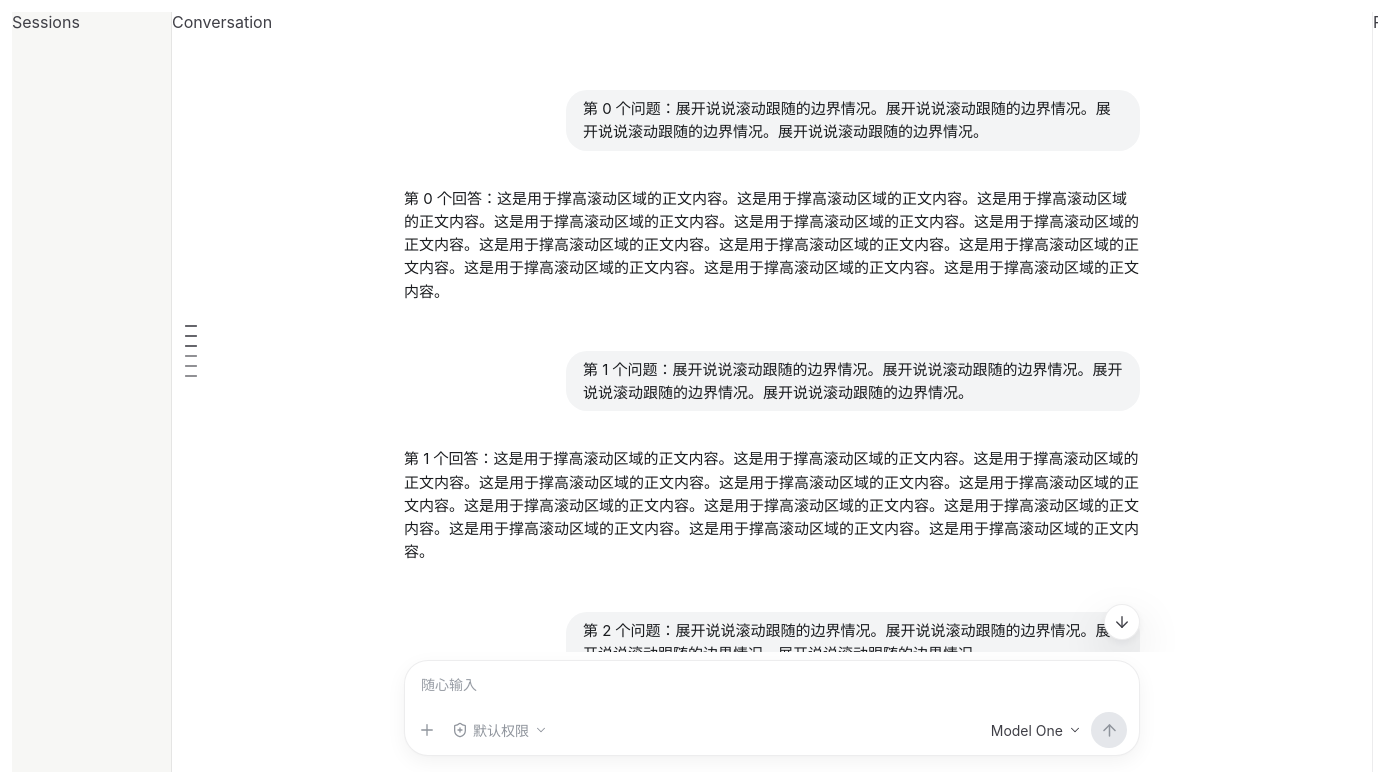
it: conversation scroll-to-bottom control › stays hidden at the bottom, appears above the composer after scrolling up, and returns on click
Expected: the 1st icon is shown, [1113,613,1131,631]
// Clicking returns to the newest content and hides the control again.
Click the button with class "conversation-scroll-to-bottom" at (1122, 622), box [1104,604,1140,640]
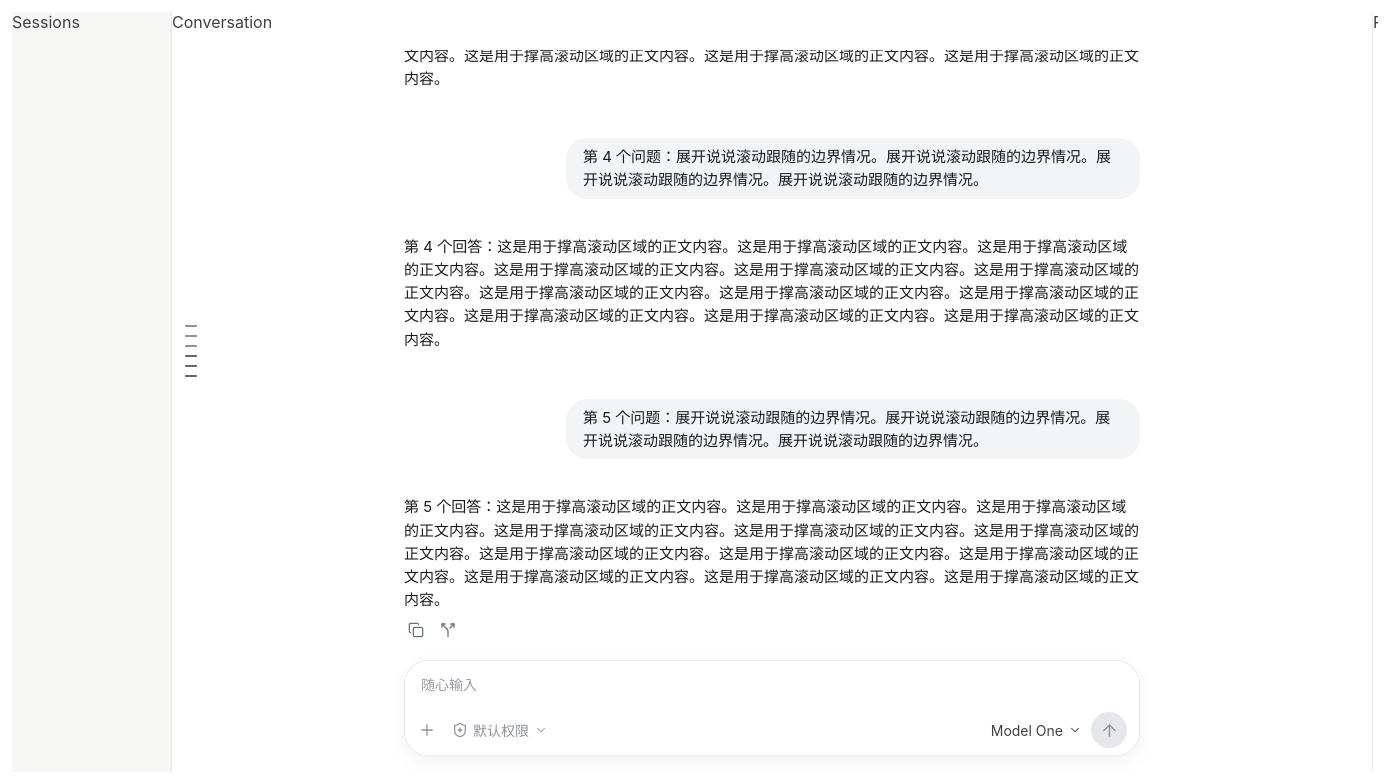
Expected: the button with class "conversation-scroll-to-bottom" is gone
